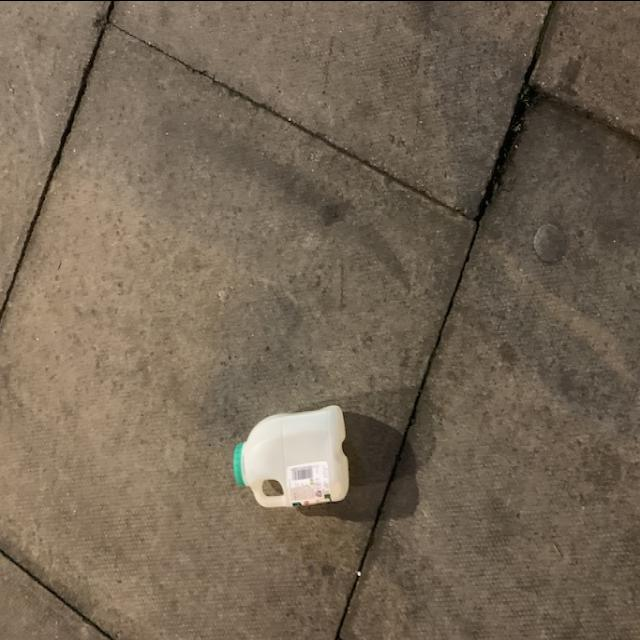HDPEM: (230, 394, 354, 512)
